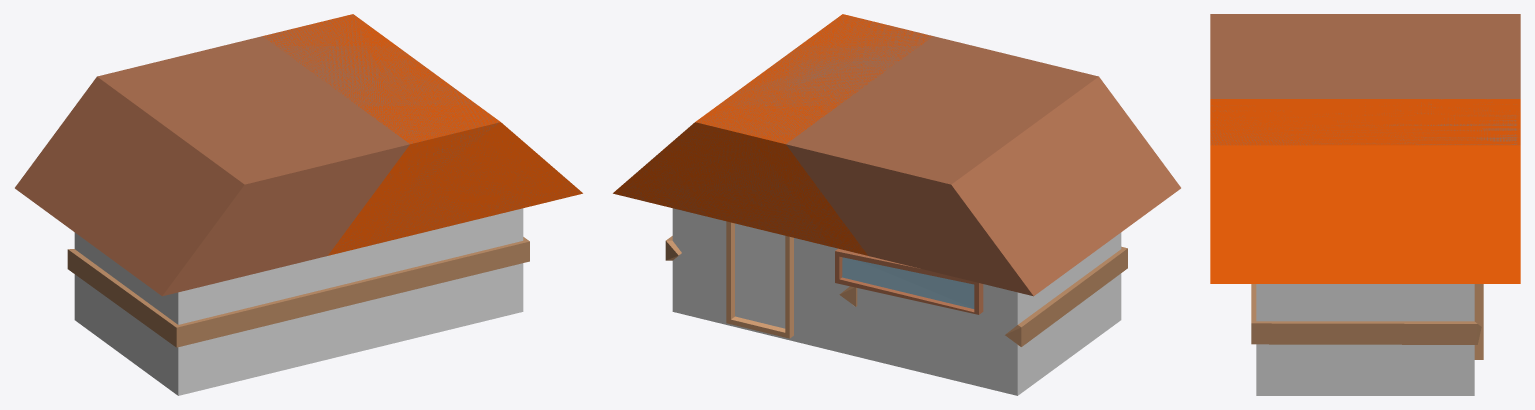
Rendered from Houses.fbx.
The picture shows the model from 3 angles, left to right: view 1: azimuth 30°, elevation 25°; view 2: azimuth 150°, elevation 25°; view 3: azimuth 270°, elevation 25°; orthographic projection. The views are drawn at different scales.
Visible parts, largest first — view 1: SuburbanHouse.002, SuburbanHouse.001; view 2: SuburbanHouse.002, SuburbanHouse.001, SuburbanHouse.007; view 3: SuburbanHouse.001, SuburbanHouse.002.
Boxes of the visible parts, x1,y1,x2,y2 form: SuburbanHouse.002: (15, 14, 582, 395); SuburbanHouse.001: (263, 14, 582, 349); SuburbanHouse.002: (613, 14, 1180, 395); SuburbanHouse.001: (613, 14, 932, 348); SuburbanHouse.007: (839, 257, 973, 308); SuburbanHouse.001: (1210, 99, 1520, 395); SuburbanHouse.002: (1210, 14, 1520, 321).
Bounding box in the file's own units: 17.21 × 10.45 × 8.45.
